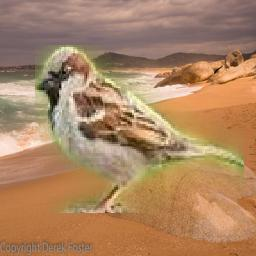Sparrow: (36, 45, 245, 213)
